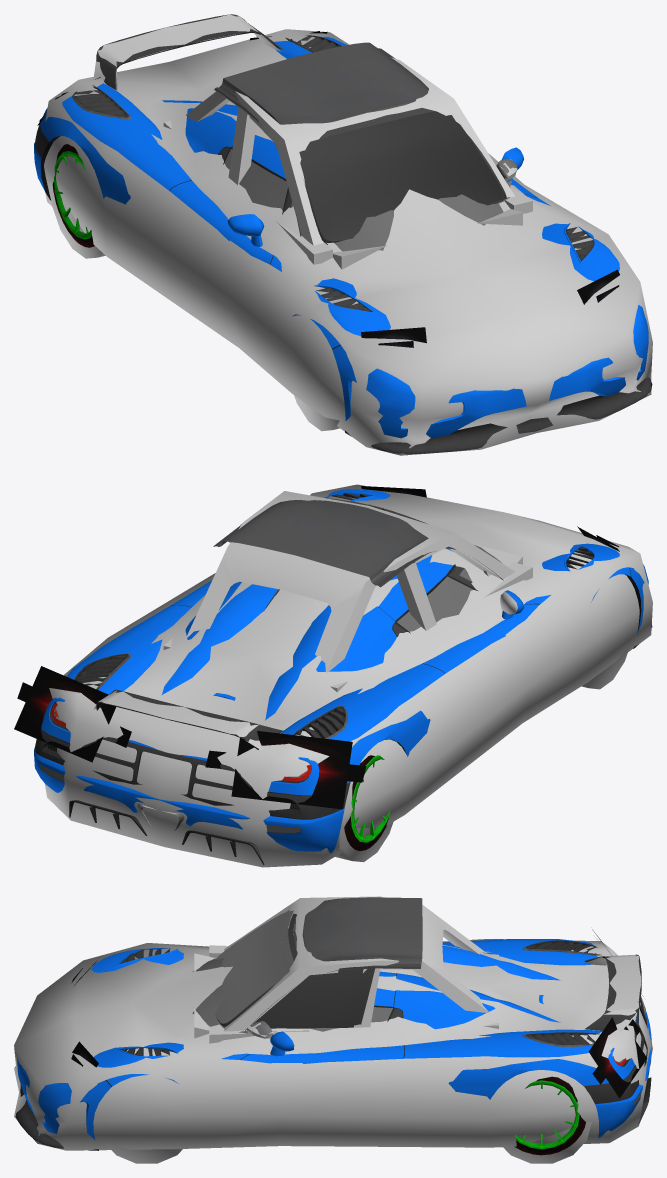
Rendered from P_car-026_Aligera.fbx.
3 views of the same model, one above another, from view 1: azimuth 30°, elevation 25°; view 2: azimuth 150°, elevation 25°; view 3: azimuth 270°, elevation 25° (orthographic). The views are drawn at different scales.
Visible parts, largest first — view 1: M_Car-026_ShadowForm_Aligera_01, M_Car-026_Body_Aligera_01, M_Car-Interior_Glass_01, M_Car-Interior_Details_01, M_Car-Interior_Shadowform_01, M_Car-026_Details_Aligera_01, M_Car-026_Glass_Aligera_01, M_Car-026_FrontFlares_Aligera_01; view 2: M_Car-026_ShadowForm_Aligera_01, M_Car-026_Body_Aligera_01, M_Car-Interior_Shadowform_01, M_Car-Interior_Details_01, M_Car-026_Details_Aligera_01, M_Car-026_BackFlaresBrake_Aligera_01, M_Car-026_Glass_Aligera_01, M_Car-026_BackLights_Aligera_01, M_Car-026_FrontFlares_Aligera_01, M_CarWheel_005_AP_02; view 3: M_Car-026_ShadowForm_Aligera_01, M_Car-026_Body_Aligera_01, M_Car-Interior_Glass_01, M_Car-Interior_Shadowform_01, M_Car-Interior_Details_01, M_Car-026_Details_Aligera_01, M_Car-026_BackFlaresBrake_Aligera_01, M_Car-026_Glass_Aligera_01, M_CarWheel_005_AP_02, M_CarTire_005_AP_02.
Part boxes in pixels (x1=…): M_Car-026_ShadowForm_Aligera_01: x1=44, y1=14, x2=652, y2=455; M_Car-026_Body_Aligera_01: x1=34, y1=36, x2=648, y2=438; M_Car-Interior_Glass_01: x1=299, y1=111, x2=502, y2=241; M_Car-Interior_Details_01: x1=213, y1=42, x2=516, y2=244; M_Car-Interior_Shadowform_01: x1=163, y1=57, x2=532, y2=269; M_Car-026_Details_Aligera_01: x1=35, y1=14, x2=652, y2=454; M_Car-026_Glass_Aligera_01: x1=224, y1=149, x2=503, y2=251; M_Car-026_FrontFlares_Aligera_01: x1=361, y1=269, x2=619, y2=347; M_Car-026_ShadowForm_Aligera_01: x1=44, y1=484, x2=652, y2=867; M_Car-026_Body_Aligera_01: x1=34, y1=489, x2=648, y2=853; M_Car-Interior_Shadowform_01: x1=163, y1=491, x2=532, y2=692; M_Car-Interior_Details_01: x1=213, y1=498, x2=503, y2=587; M_Car-026_Details_Aligera_01: x1=35, y1=493, x2=652, y2=864; M_Car-026_BackFlaresBrake_Aligera_01: x1=14, y1=666, x2=352, y2=809; M_Car-026_Glass_Aligera_01: x1=39, y1=545, x2=501, y2=832; M_Car-026_BackLights_Aligera_01: x1=17, y1=682, x2=366, y2=782; M_Car-026_FrontFlares_Aligera_01: x1=361, y1=486, x2=619, y2=551; M_CarWheel_005_AP_02: x1=344, y1=755, x2=388, y2=850; M_Car-026_ShadowForm_Aligera_01: x1=14, y1=926, x2=652, y2=1163; M_Car-026_Body_Aligera_01: x1=17, y1=939, x2=651, y2=1139; M_Car-Interior_Glass_01: x1=215, y1=910, x2=375, y2=1028; M_Car-Interior_Shadowform_01: x1=194, y1=896, x2=498, y2=1043; M_Car-Interior_Details_01: x1=216, y1=897, x2=422, y2=1035; M_Car-026_Details_Aligera_01: x1=15, y1=940, x2=651, y2=1150; M_Car-026_BackFlaresBrake_Aligera_01: x1=588, y1=929, x2=647, y2=1098; M_Car-026_Glass_Aligera_01: x1=192, y1=958, x2=641, y2=1104; M_CarWheel_005_AP_02: x1=514, y1=1076, x2=585, y2=1155; M_CarTire_005_AP_02: x1=514, y1=1114, x2=579, y2=1149.
Size of the model in its own units: 2.25 by 1.34 by 4.31.
